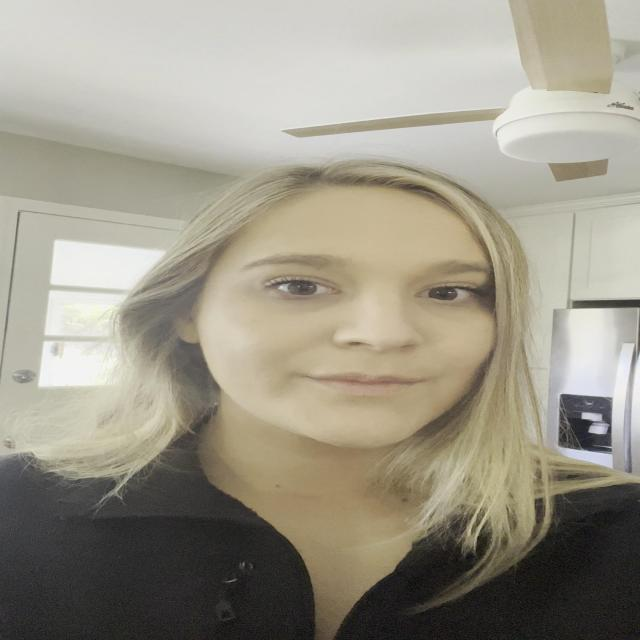no-helmet: (201, 188, 501, 450)
